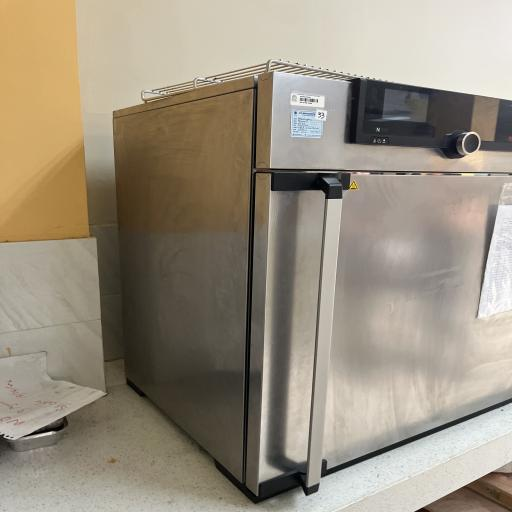Memmert_Unidad2: (103, 64, 512, 503)
